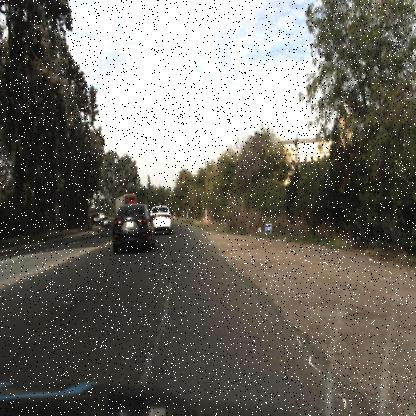car: (111, 203, 156, 258), (146, 199, 176, 242), (150, 203, 177, 234)
